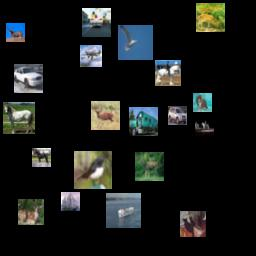airplane: (80, 45, 102, 67)
automobile: (14, 64, 43, 93), (168, 106, 187, 125)
bird: (74, 151, 112, 189), (118, 25, 153, 60)
cat: (180, 211, 206, 237), (193, 93, 212, 112)
deer: (196, 3, 225, 32), (91, 101, 120, 130), (135, 152, 164, 181), (18, 199, 44, 225), (6, 23, 25, 42)
ship: (106, 193, 141, 228), (61, 192, 80, 211)
truck: (82, 8, 111, 37), (129, 107, 158, 136)
